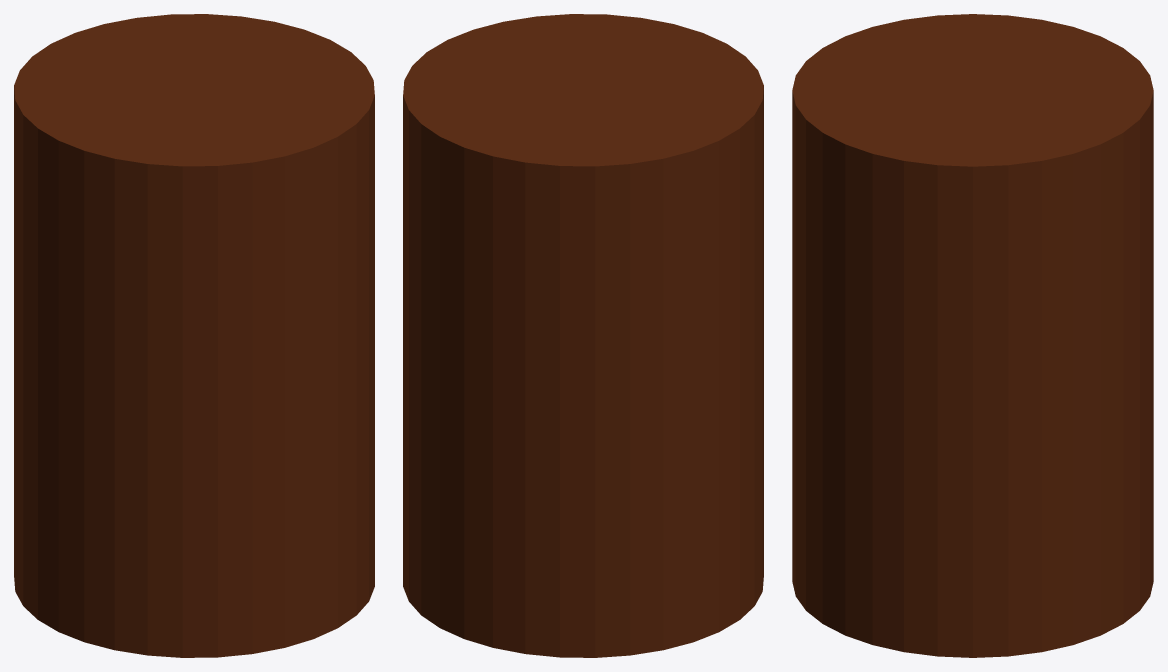
The model's file is TreeBark.fbx.
The picture shows the model from 3 angles, left to right: view 1: azimuth 30°, elevation 25°; view 2: azimuth 150°, elevation 25°; view 3: azimuth 270°, elevation 25°; orthographic projection.
Visible parts, largest first — view 1: Cylinder; view 2: Cylinder; view 3: Cylinder.
Part boxes in pixels (left/top/right/bottom): Cylinder: left=14, top=14, right=374, bottom=657; Cylinder: left=403, top=14, right=763, bottom=657; Cylinder: left=792, top=14, right=1153, bottom=657.
Bounding box in the file's own units: 100 × 150 × 100.
Materials: 1 (1 with a texture image).
